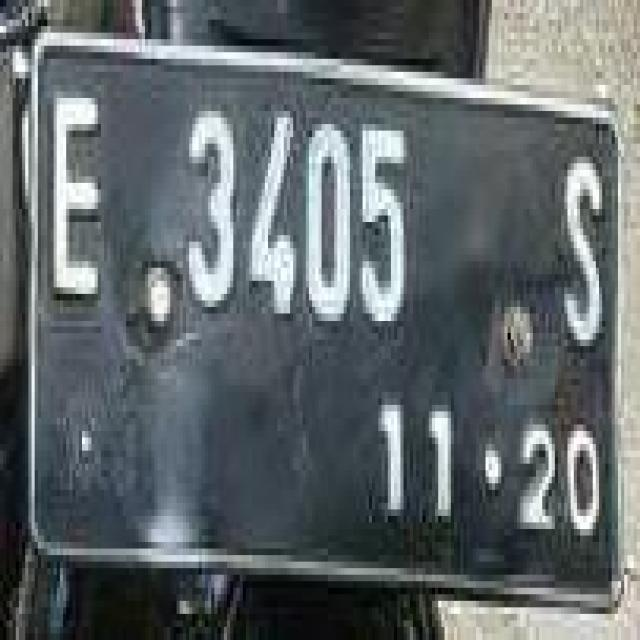0: (304, 98, 354, 353)
3: (184, 98, 244, 320)
4: (246, 98, 306, 326)
5: (354, 95, 414, 336)
E: (49, 78, 109, 307)
S: (560, 146, 610, 362)
